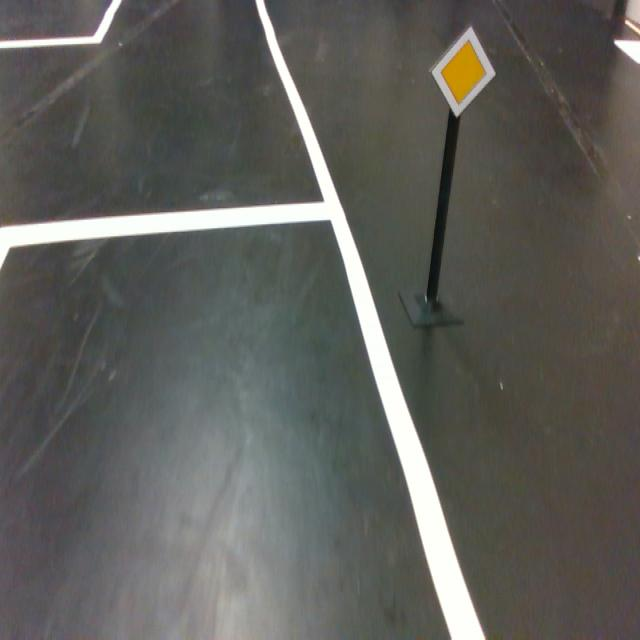priority-sign: (429, 24, 497, 118)
